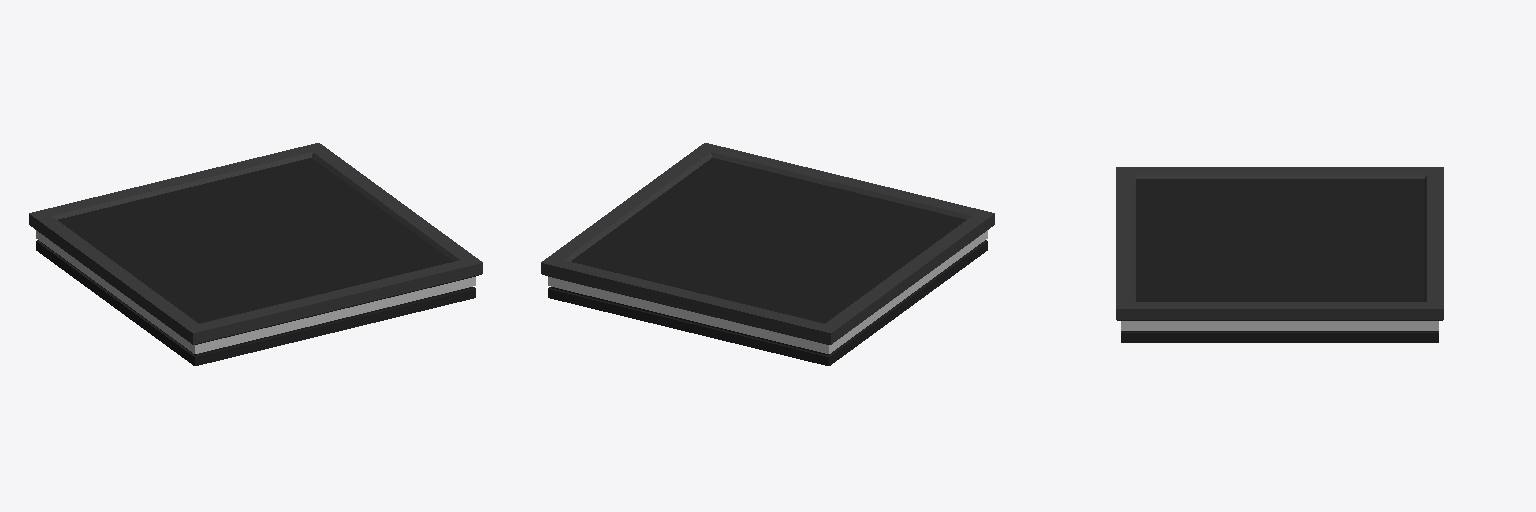
The model's file is Platform_2x2_Empty.obj.
3 views of the same model, side by side, from view 1: azimuth 30°, elevation 25°; view 2: azimuth 150°, elevation 25°; view 3: azimuth 270°, elevation 25° (orthographic).
Visible parts, largest first — view 1: Platform_2x2_Empty_Cube.102; view 2: Platform_2x2_Empty_Cube.102; view 3: Platform_2x2_Empty_Cube.102.
Boxes of the visible parts, <box> form: Platform_2x2_Empty_Cube.102: <box>29,143,482,365</box>; Platform_2x2_Empty_Cube.102: <box>541,143,994,365</box>; Platform_2x2_Empty_Cube.102: <box>1116,167,1443,342</box>.
Size of the model in its own units: 1.89 by 0.2243 by 1.85.